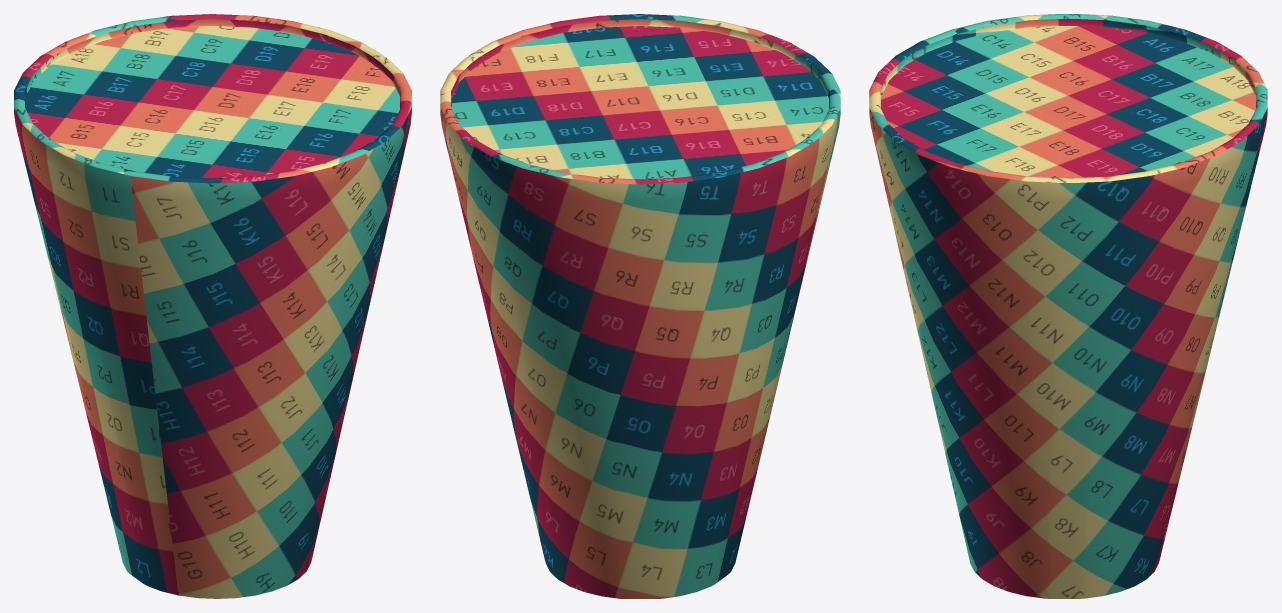
Rendered from Plateforme_low.FBX.
The picture shows the model from 3 angles, left to right: view 1: azimuth 30°, elevation 25°; view 2: azimuth 150°, elevation 25°; view 3: azimuth 270°, elevation 25°; orthographic projection.
Parts seen in each view (by area): view 1: Plateforme_Centrale; view 2: Plateforme_Centrale; view 3: Plateforme_Centrale.
Part boxes in pixels (<box>): Plateforme_Centrale: <box>14,14,411,598</box>; Plateforme_Centrale: <box>440,14,840,598</box>; Plateforme_Centrale: <box>869,14,1267,598</box>.
Bounding box in the file's own units: 59.7 × 76.39 × 59.67.
